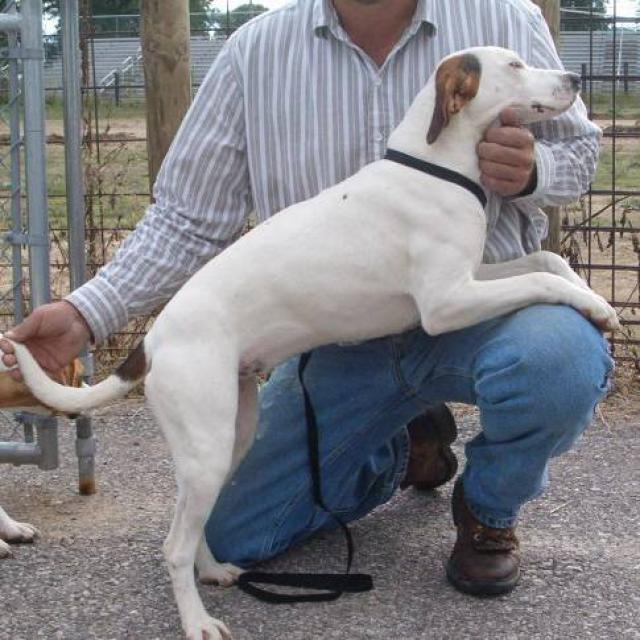dog: (0, 43, 622, 639)
